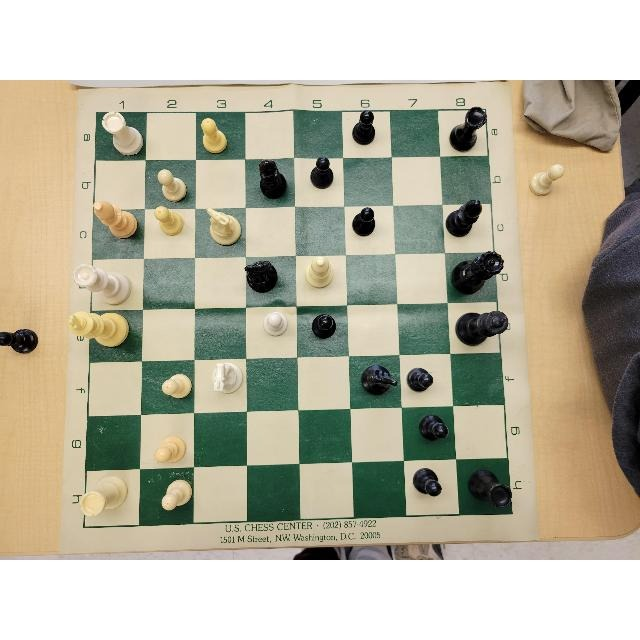black-bishop: (254, 153, 294, 205), (441, 197, 489, 239)
black-king: (450, 306, 511, 348)
black-knight: (240, 259, 282, 299), (355, 362, 399, 400)
black-pawn: (350, 106, 382, 148), (414, 411, 453, 445), (409, 465, 445, 501), (0, 326, 40, 357), (307, 157, 338, 191), (403, 364, 436, 395), (309, 309, 339, 340), (350, 205, 377, 236)
black-queen: (447, 252, 509, 297)
black-rook: (462, 464, 520, 511), (447, 104, 487, 154)
white-bishop: (91, 197, 143, 244), (301, 252, 339, 294)
white-king: (64, 308, 135, 348)
white-knight: (203, 356, 247, 402), (202, 208, 246, 251)
white-pawn: (151, 430, 190, 472), (151, 168, 193, 206), (528, 162, 568, 198), (196, 115, 232, 154), (150, 202, 186, 241), (158, 476, 194, 514), (160, 369, 195, 402), (262, 307, 290, 341)
white-queen: (75, 268, 136, 308)
white-rook: (76, 467, 133, 523), (101, 109, 149, 159)
